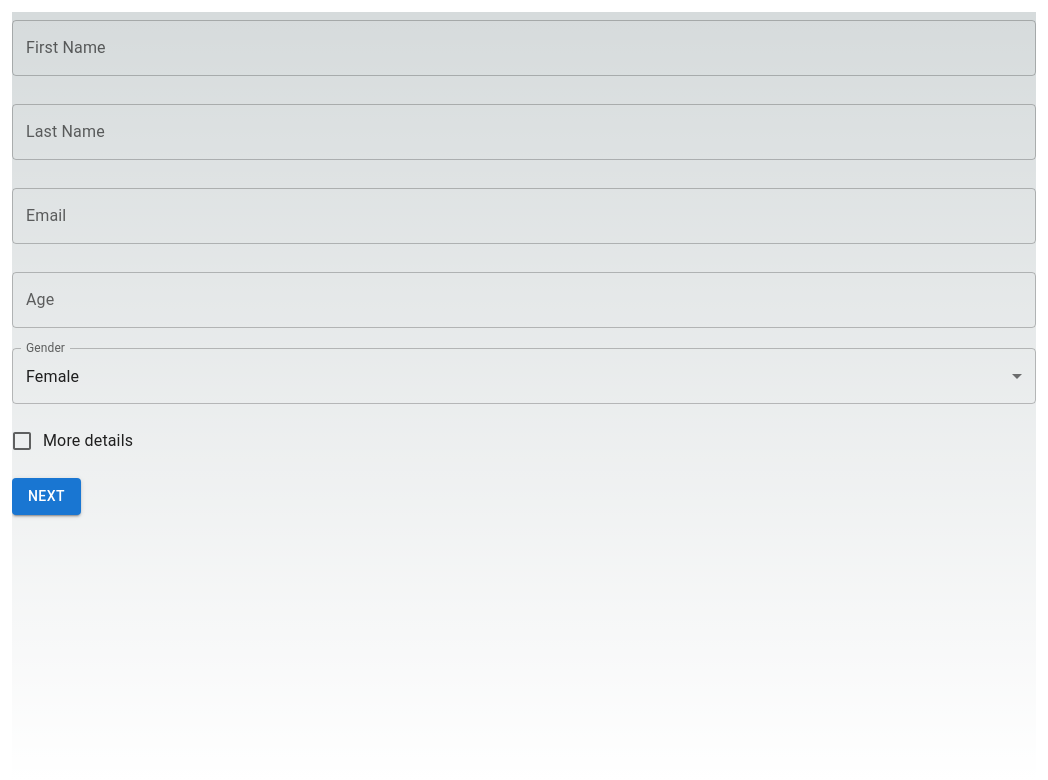
Test: FormFirstStep fails › if age is not provided
The width and height of the screenshot is (1048, 780).
In the field labelled "First Name": (524, 48) [12, 20, 1036, 76], type "longmont"
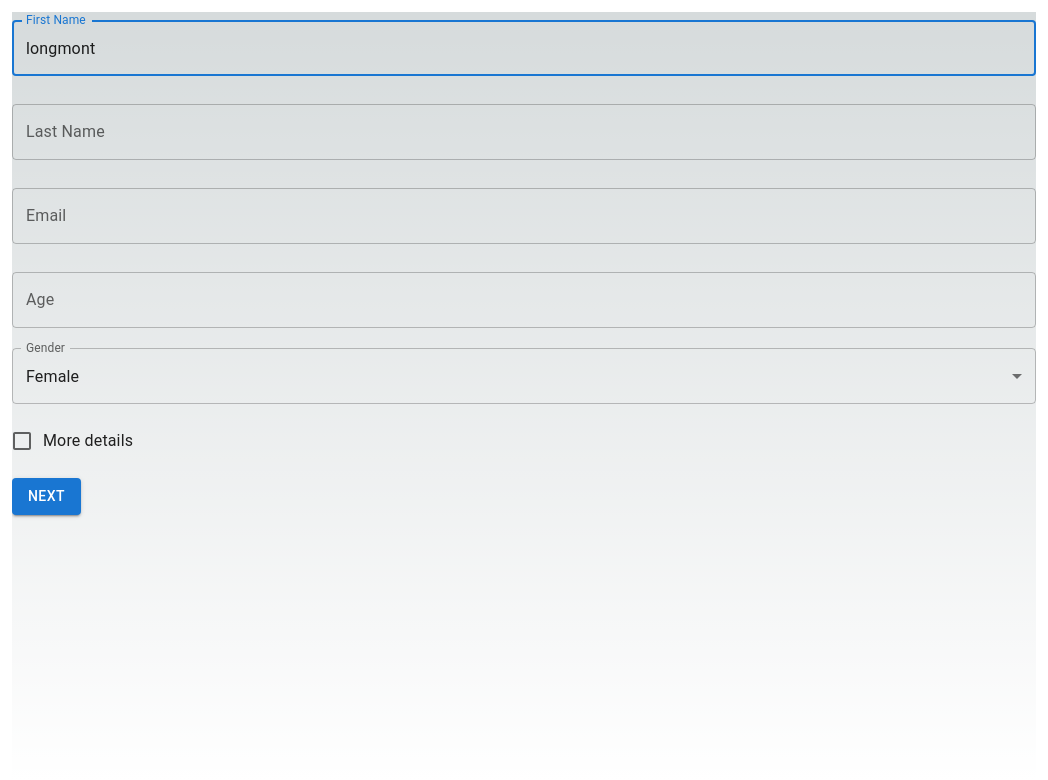
Click the button "Next": (46, 496) [12, 478, 81, 514]
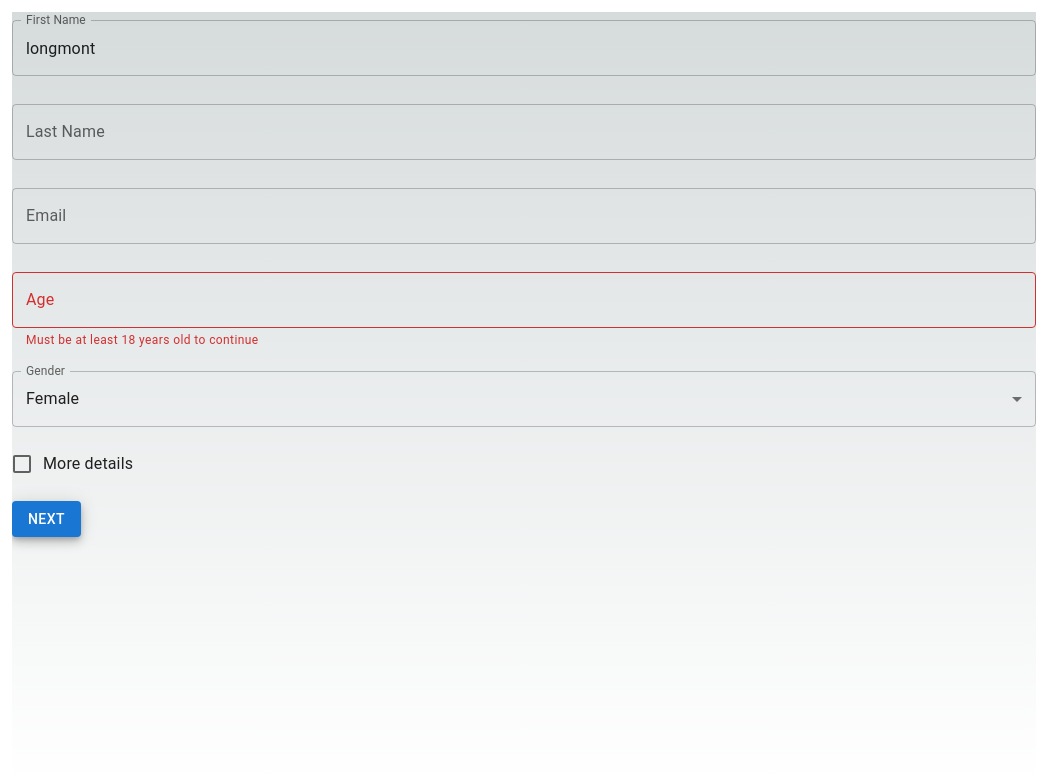
Expected: the text "Must be at least 18 years old to continue" is shown, [26, 333, 258, 347]
